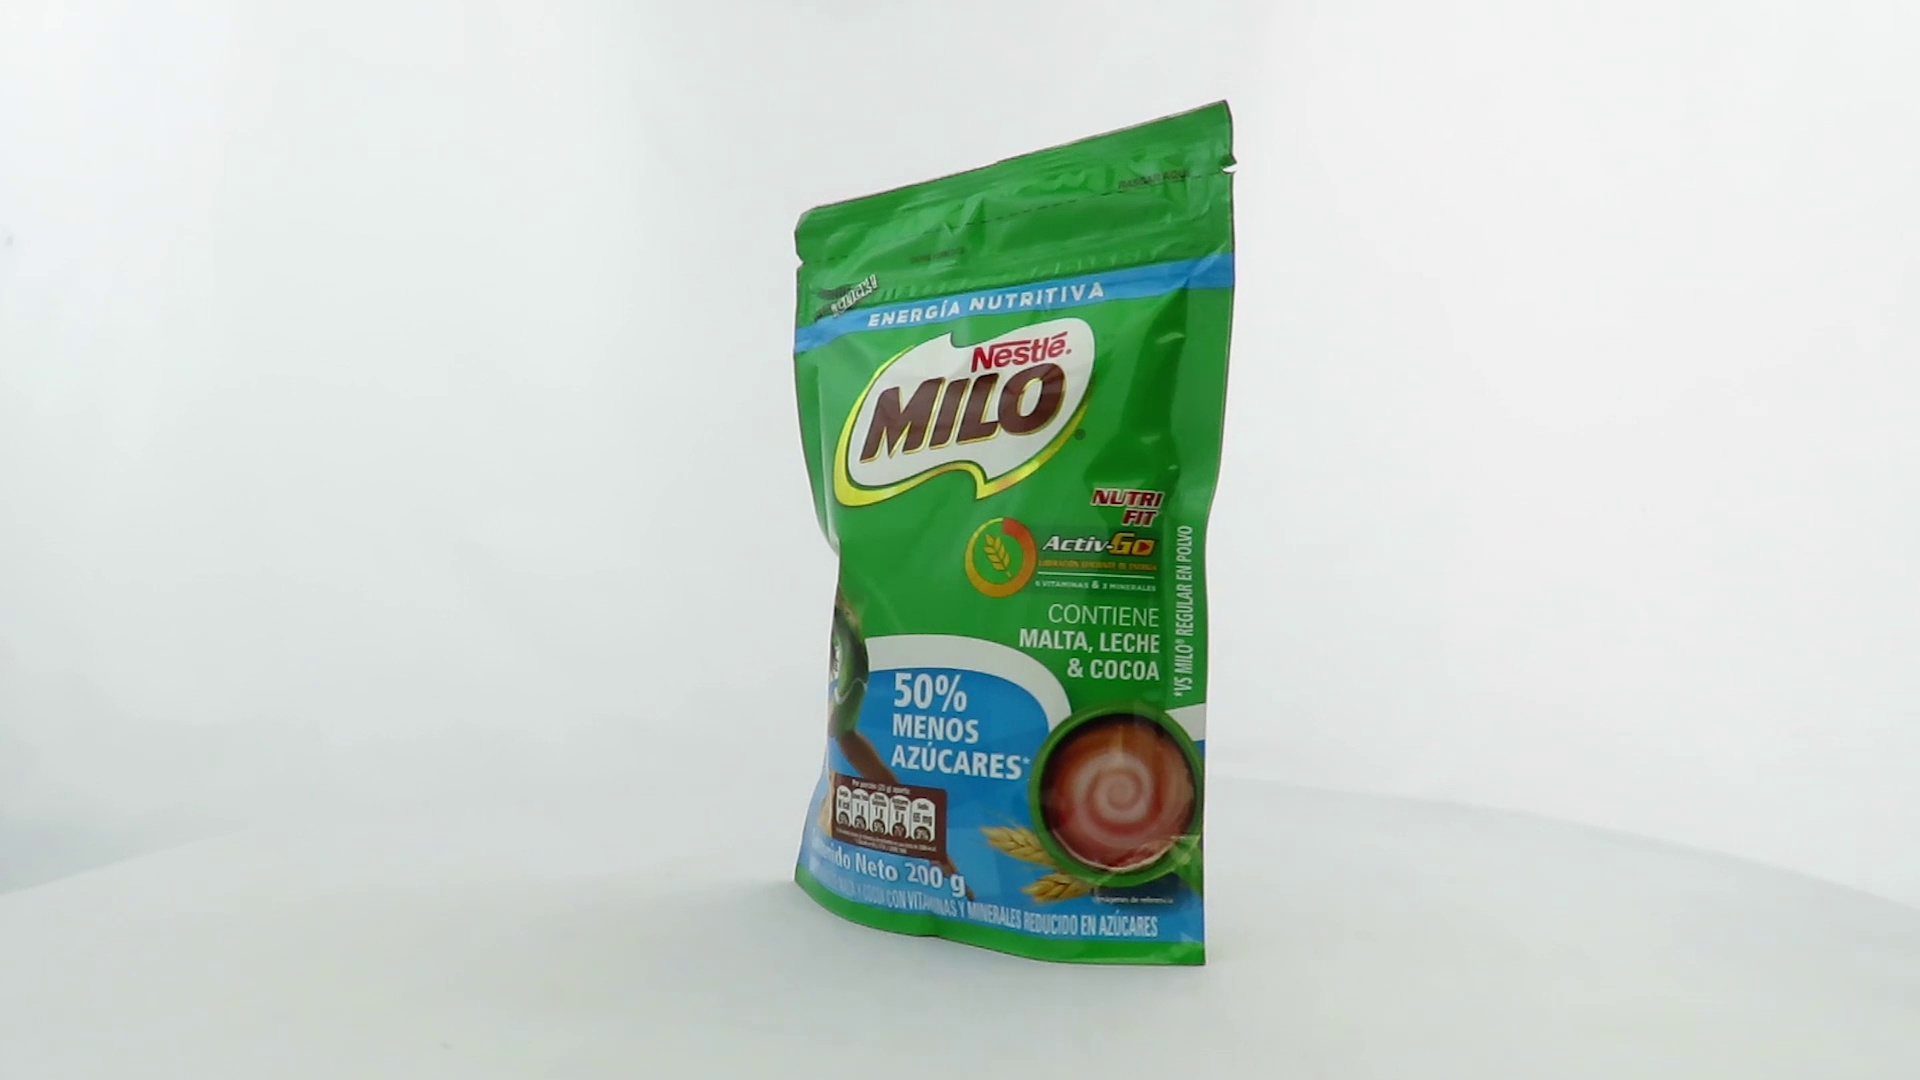COL0170205DYP20000: (789, 94, 1244, 973)
